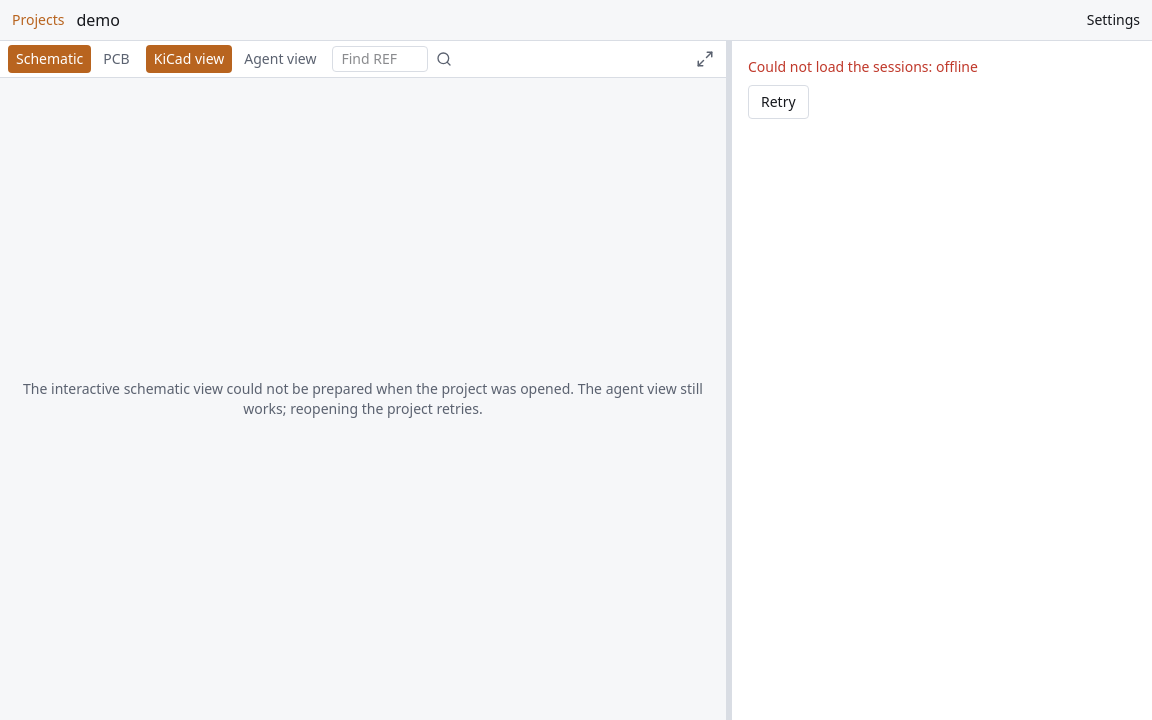
Test: ProjectPage › a failed archived lookup offers Retry instead of "Session not found"
expect the text "Could not load the sessions: offline" is shown: met, box [748,57,978,77]
Step 1. Click the button "Retry" → (778, 102), box [748,85,809,119]
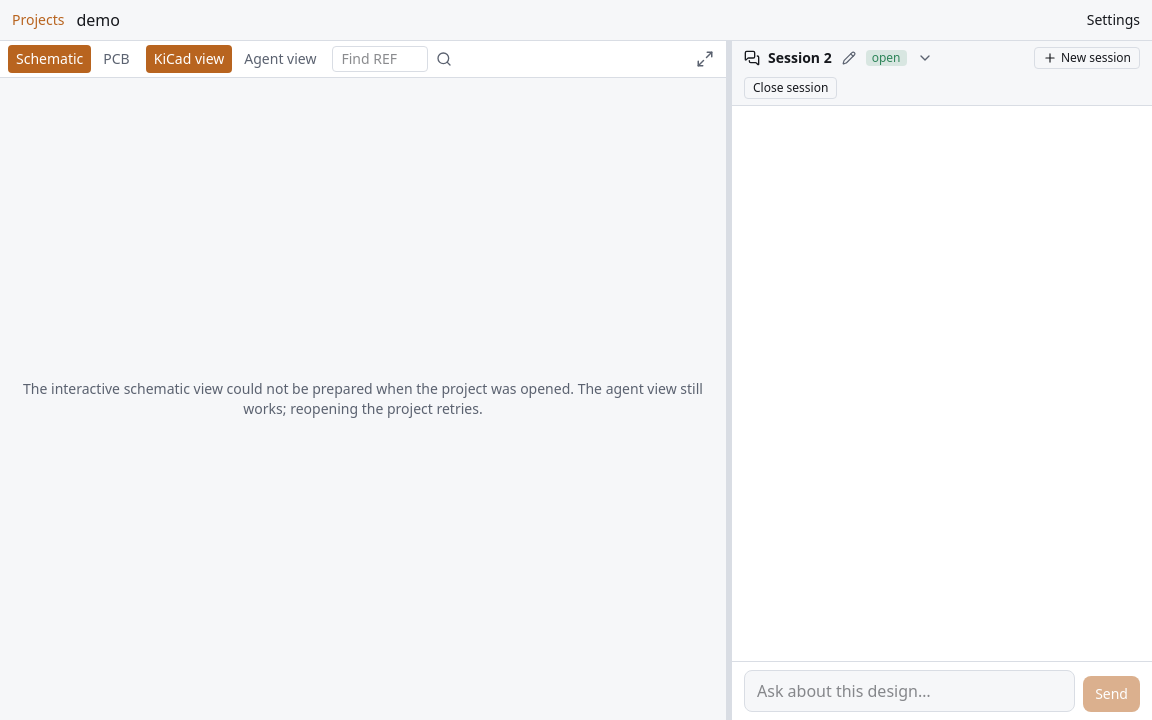
expect the heading "Session 2" is shown: met, box [768,48,832,68]
